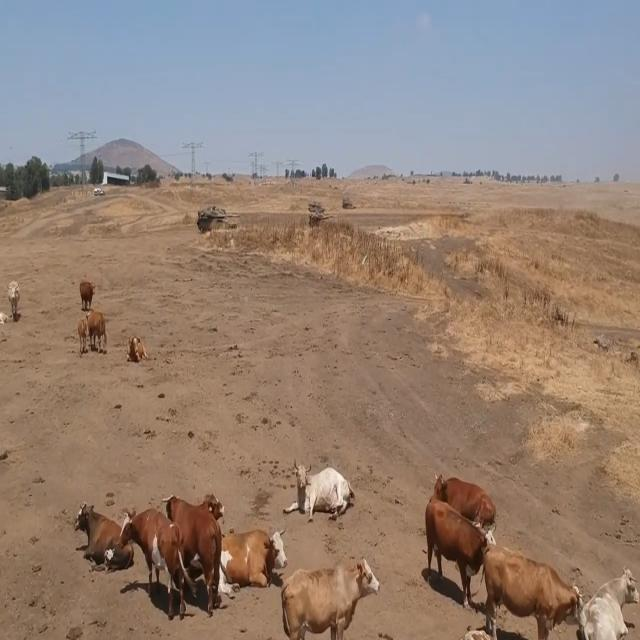tank: (198, 199, 235, 240), (308, 211, 331, 237), (342, 185, 356, 209), (308, 192, 321, 212)
